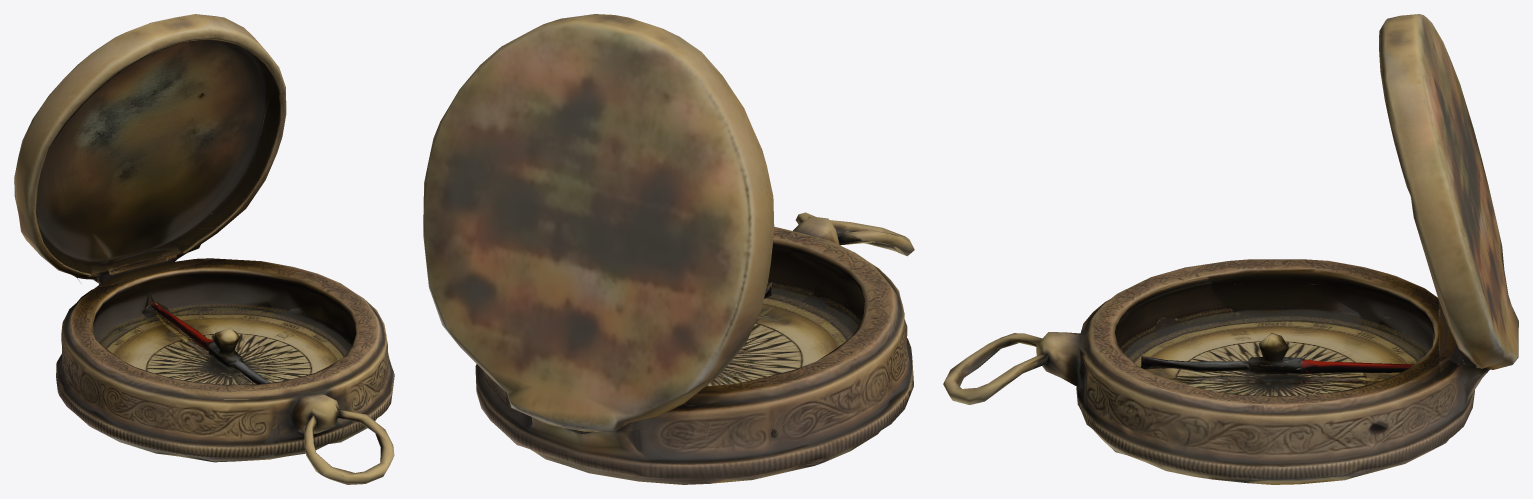
The model's file is Compass.fbx.
3 views of the same model, side by side, from view 1: azimuth 30°, elevation 25°; view 2: azimuth 150°, elevation 25°; view 3: azimuth 270°, elevation 25° (orthographic). The views are drawn at different scales.
Visible parts, largest first — view 1: Mesh_0; view 2: Mesh_0; view 3: Mesh_0.
Boxes of the visible parts, left/top/right/bottom form: Mesh_0: left=14, top=14, right=394, bottom=484; Mesh_0: left=423, top=14, right=914, bottom=484; Mesh_0: left=943, top=14, right=1518, bottom=484.
Size of the model in its own units: 128 by 139 by 192.
1 material, 1 textured.
